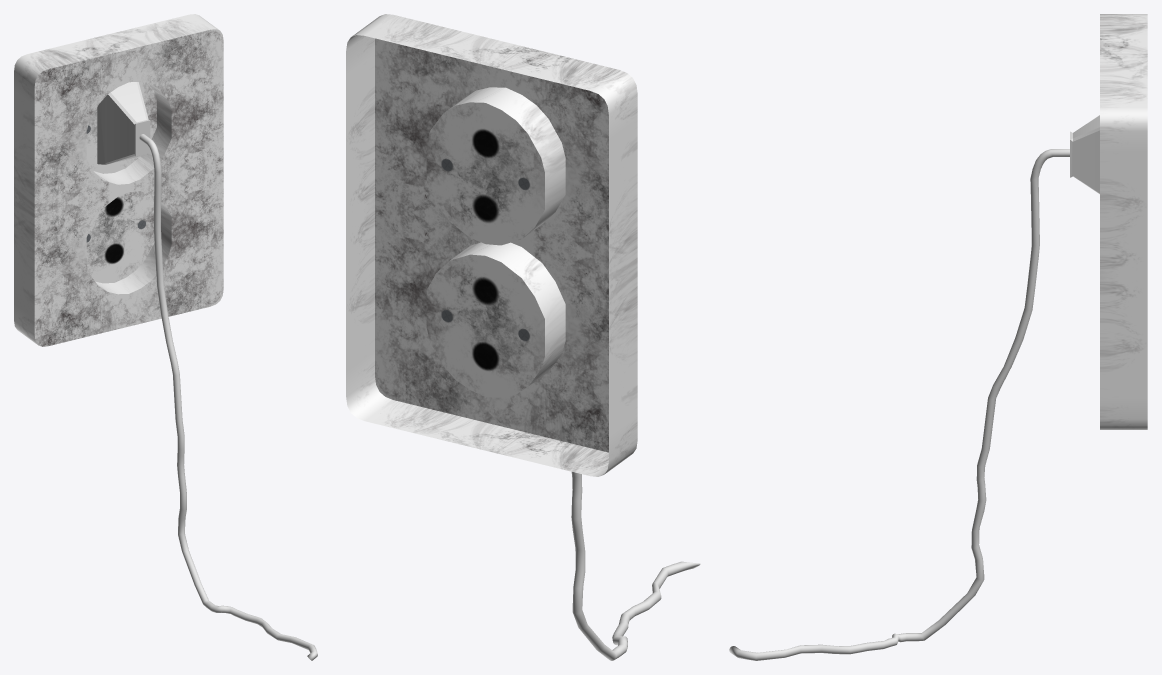
File: Broken Socket.FBX
The picture shows the model from 3 angles, left to right: view 1: azimuth 30°, elevation 25°; view 2: azimuth 150°, elevation 25°; view 3: azimuth 270°, elevation 25°; orthographic projection. The views are drawn at different scales.
Visible parts, largest first — view 1: Box001, Box002; view 2: Box001, Box002; view 3: Box001, Box002.
Boxes of the visible parts, left/top/right/bottom form: Box001: left=14, top=14, right=223, bottom=346; Box002: left=97, top=82, right=317, bottom=660; Box001: left=346, top=14, right=637, bottom=476; Box002: left=459, top=104, right=700, bottom=660; Box001: left=1100, top=14, right=1147, bottom=429; Box002: left=729, top=115, right=1099, bottom=660.
Bounding box in the file's own units: 10.21 × 25.88 × 16.95.
Materials: 1 (1 with a texture image).
